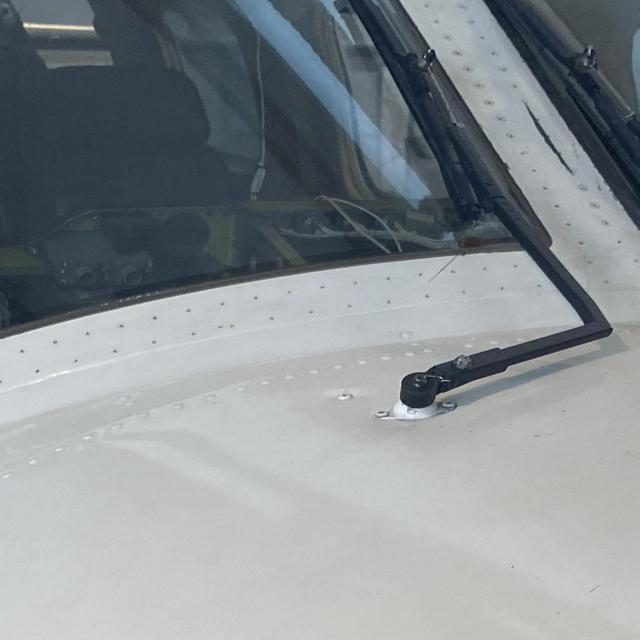Paint-off: (596, 182, 604, 191)
Scratch: (424, 254, 461, 285)
